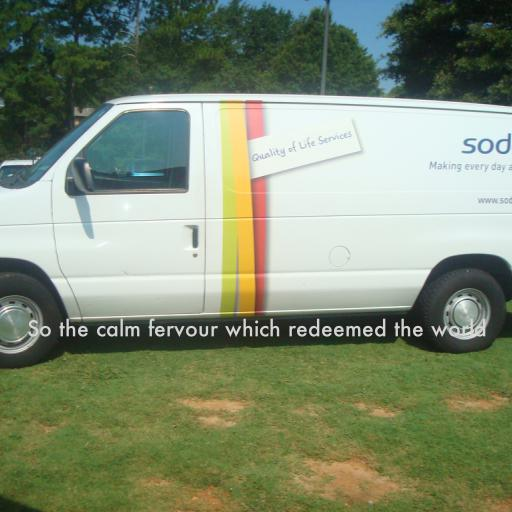Futura: (27, 318, 487, 338)
